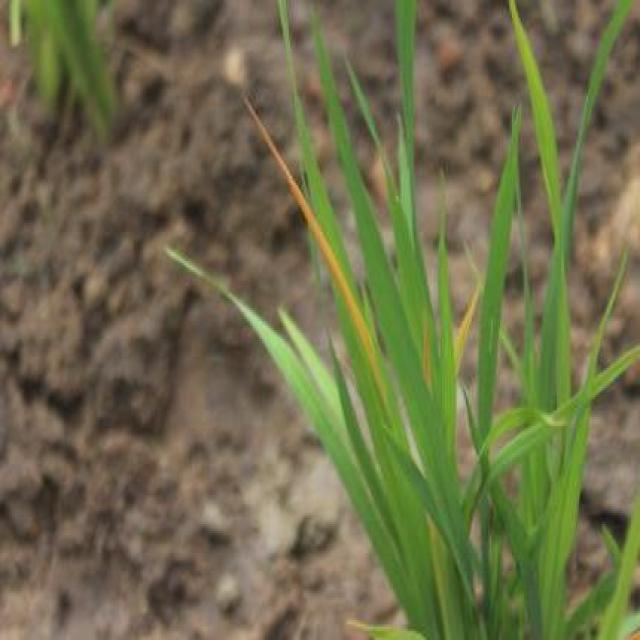Tungro: (234, 72, 384, 370)
